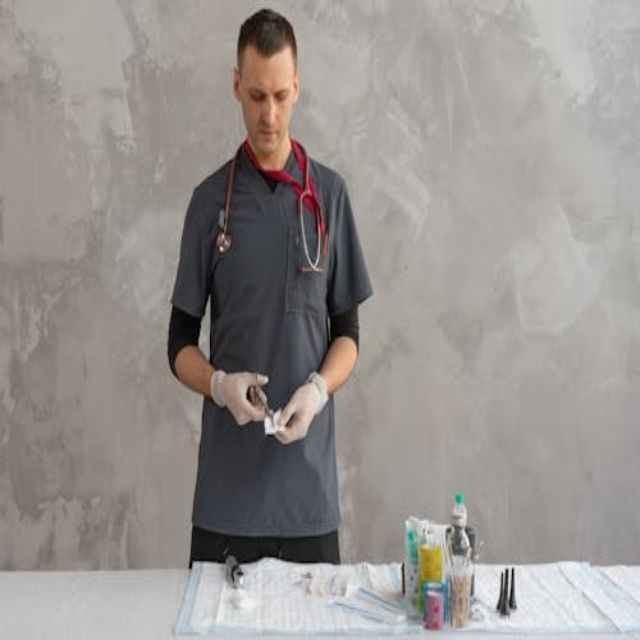Guantes: (272, 373, 329, 444), (213, 368, 273, 426)
Sin_gafas: (244, 75, 294, 106)
Sin_mascara: (251, 119, 283, 150)
